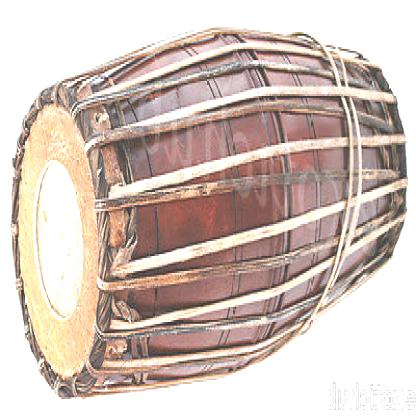Mridangam: (4, 11, 414, 412)
